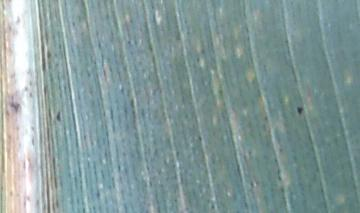tarspot: (296, 104, 305, 120), (55, 109, 63, 124)
